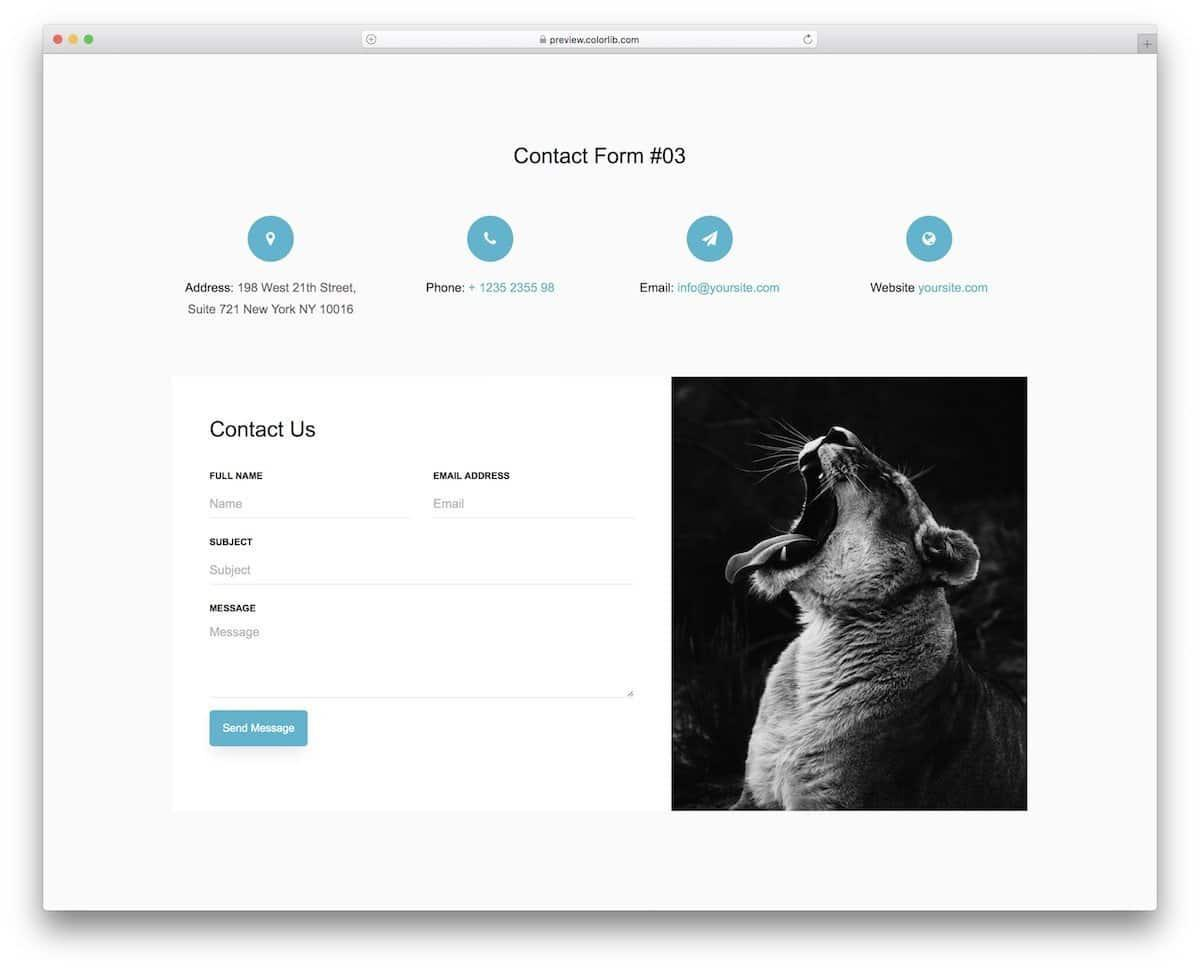button: (210, 711, 310, 749)
label: (181, 280, 363, 320), (512, 144, 692, 170), (206, 413, 321, 446), (636, 280, 784, 297), (867, 280, 996, 299), (425, 280, 562, 297), (432, 470, 514, 483), (208, 470, 265, 482), (205, 603, 259, 615), (207, 537, 255, 549)
